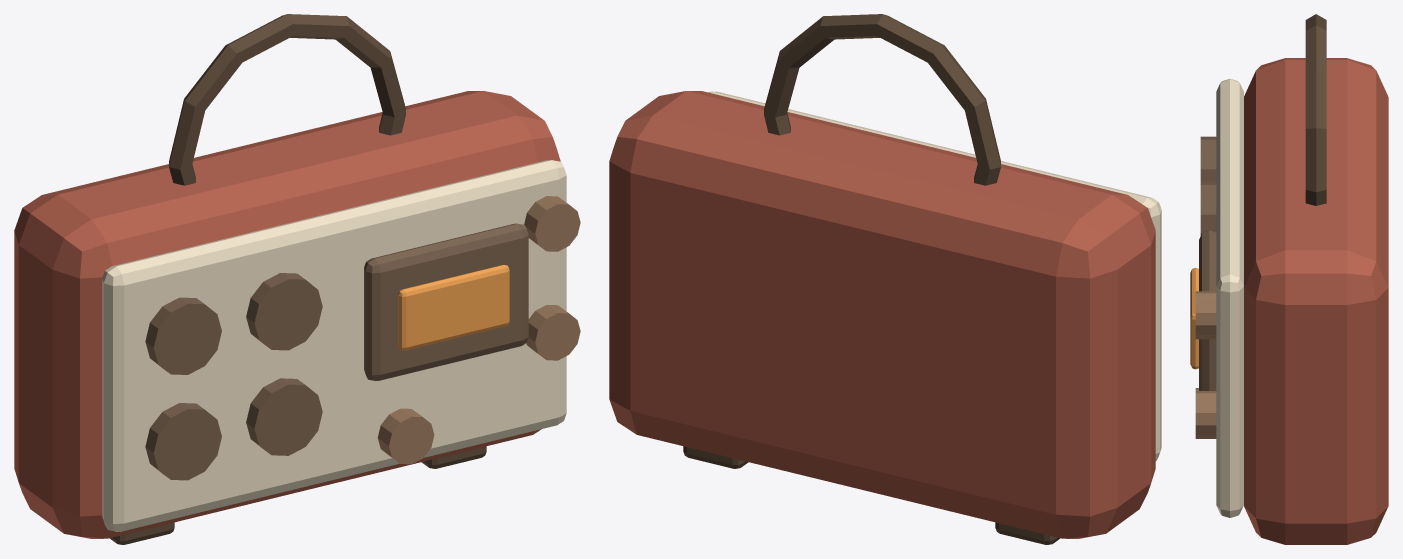
The model's file is radio.glb.
3 renders of one model, left to right at view 1: azimuth 30°, elevation 25°; view 2: azimuth 150°, elevation 25°; view 3: azimuth 270°, elevation 25°, orthographic. The views are drawn at different scales.
Parts seen in each view (by area): view 1: RadioFace, RadioCase, Display, RadioHandle, DisplayGlow, Speaker4, Speaker1, Speaker3, Speaker2, Knob3, Knob1, Knob2; view 2: RadioCase, RadioHandle, RadioFace, RadioFootLeft, RadioFootRight; view 3: RadioCase, RadioFace, RadioHandle, Display, Knob1, Knob2, Speaker3, Speaker1, DisplayGlow.
Part boxes in pixels (x1,y1,x2,y2): RadioFace: [102, 160, 566, 531]; RadioCase: [14, 91, 560, 538]; Display: [364, 223, 528, 380]; RadioHandle: [169, 14, 405, 185]; DisplayGlow: [398, 265, 509, 350]; Speaker4: [246, 378, 322, 455]; Speaker1: [145, 297, 221, 374]; Speaker3: [246, 273, 322, 350]; Speaker2: [145, 403, 221, 480]; Knob3: [377, 408, 434, 464]; Knob1: [524, 196, 580, 251]; Knob2: [526, 305, 580, 360]; RadioCase: [609, 91, 1155, 538]; RadioHandle: [764, 14, 1000, 185]; RadioFace: [708, 91, 1161, 460]; RadioFootLeft: [995, 522, 1059, 544]; RadioFootRight: [683, 446, 748, 468]; RadioCase: [1244, 58, 1388, 544]; RadioFace: [1216, 79, 1243, 517]; RadioHandle: [1305, 14, 1326, 205]; Display: [1199, 230, 1216, 390]; Knob1: [1195, 291, 1216, 339]; Knob2: [1195, 391, 1216, 438]; Speaker3: [1200, 181, 1216, 235]; Speaker1: [1200, 136, 1216, 181]; DisplayGlow: [1190, 267, 1198, 369].
Size of the model in its own units: 1.55 by 1.4 by 0.575.
